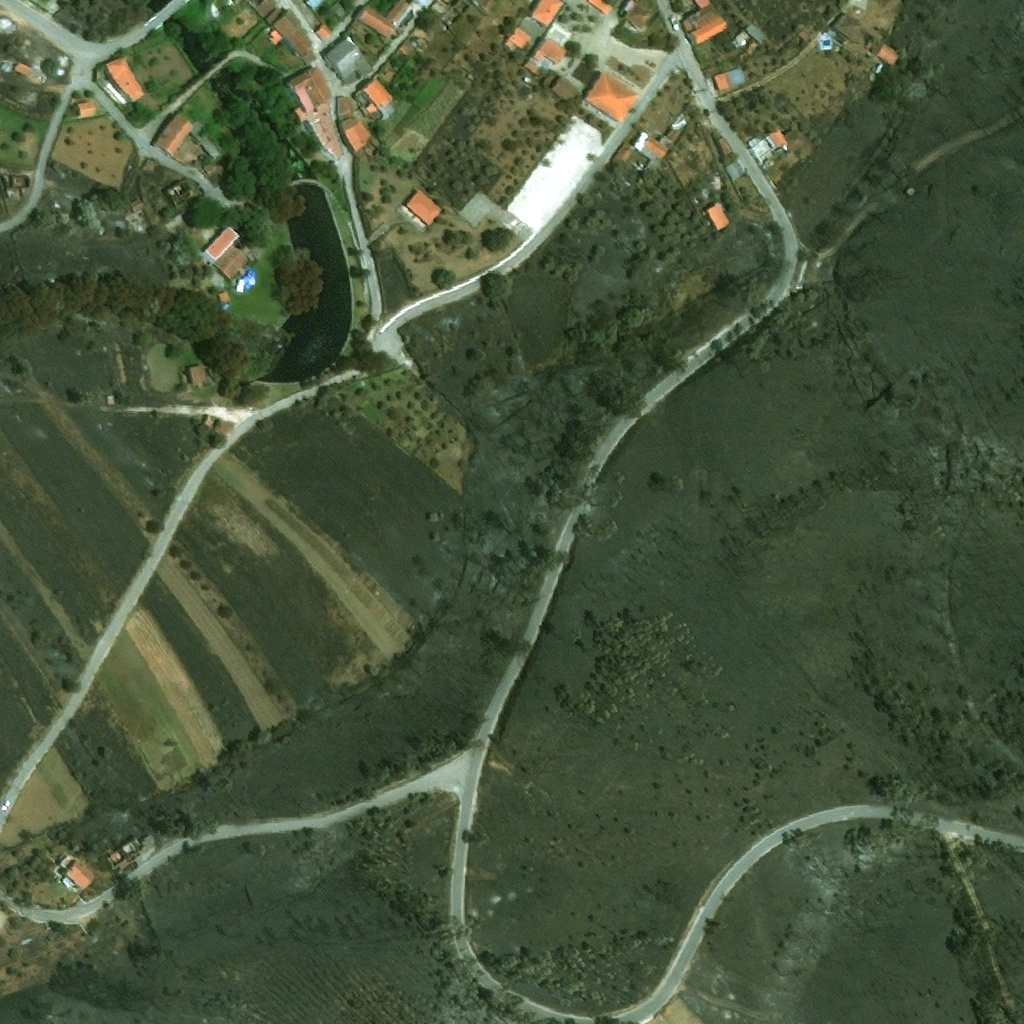0 no-damage: (286, 63, 345, 163), (632, 111, 692, 165), (319, 31, 376, 87), (583, 70, 642, 123), (523, 19, 574, 74), (353, 0, 414, 39), (335, 95, 372, 154), (102, 54, 146, 103), (152, 111, 197, 156), (501, 16, 549, 56), (275, 16, 318, 59), (404, 188, 443, 229), (690, 8, 732, 46), (359, 75, 395, 115), (748, 126, 789, 161), (58, 857, 100, 891), (204, 223, 241, 260), (212, 244, 250, 280), (192, 120, 224, 159), (710, 160, 745, 190), (832, 12, 864, 43), (529, 0, 565, 26), (550, 75, 580, 104), (625, 1, 656, 29), (703, 202, 730, 232), (200, 414, 234, 437), (608, 141, 634, 169), (1, 55, 33, 77), (874, 43, 900, 66), (712, 68, 736, 91), (186, 364, 210, 385), (743, 23, 766, 44), (75, 98, 97, 117), (262, 8, 284, 26), (313, 22, 332, 41), (268, 29, 283, 45), (680, 17, 694, 32), (105, 395, 114, 405)
3 destroyed: (164, 177, 198, 207), (120, 834, 151, 864), (103, 847, 133, 876), (3, 176, 30, 190)
4 un-classified: (244, 0, 275, 20), (207, 0, 233, 18), (588, 0, 614, 14), (472, 0, 496, 12), (304, 0, 325, 10), (234, 308, 251, 318), (695, 0, 712, 10)
